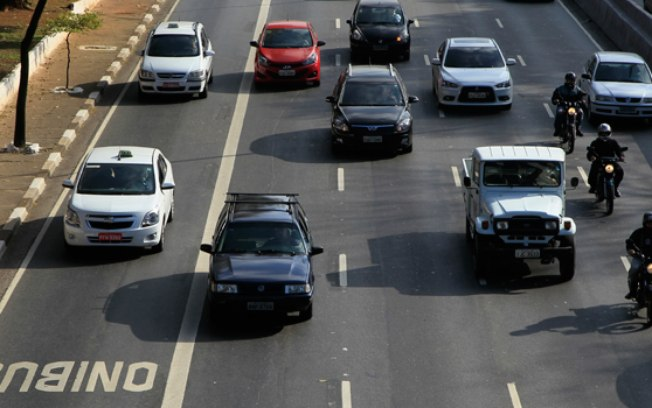Carro: (459, 143, 580, 282), (200, 191, 322, 322), (66, 145, 178, 253), (325, 62, 422, 155), (429, 36, 521, 116), (138, 17, 216, 99), (243, 17, 326, 93), (575, 46, 652, 123), (338, 1, 421, 60)
Moto: (579, 122, 632, 218), (542, 71, 589, 151), (620, 206, 652, 323)
